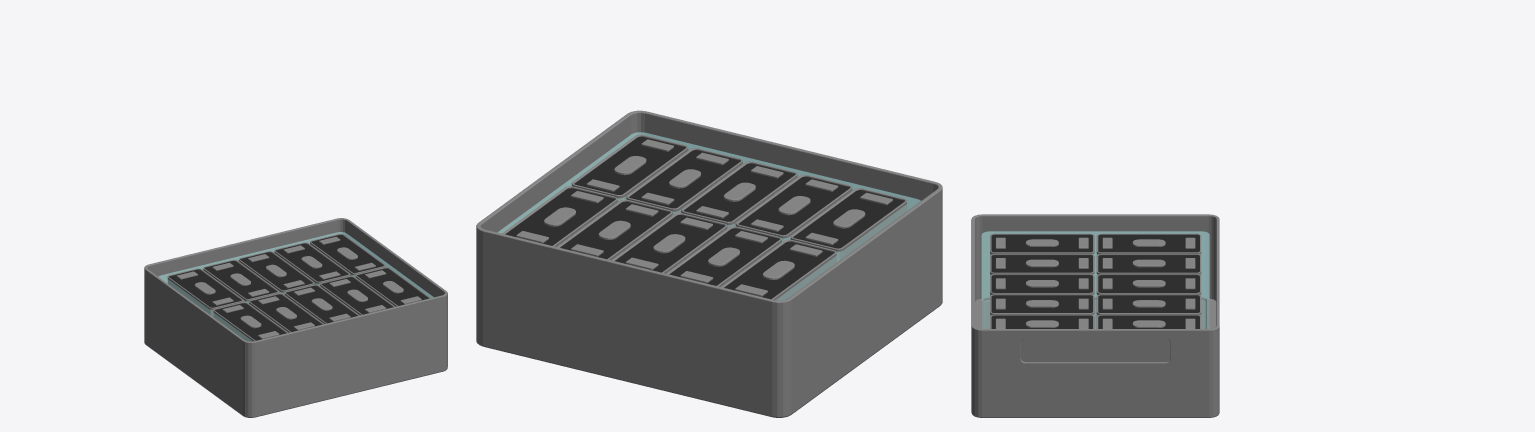
Rendered from carmodel.glb.
3 renders of one model, left to right at view 1: azimuth 30°, elevation 25°; view 2: azimuth 150°, elevation 25°; view 3: azimuth 270°, elevation 25°, orthographic. The views are drawn at different scales.
Visible parts, largest first — view 1: case, pack006, pack005, pack008, pack009, pack007, pack010, pack003, pack001, pack004, pack002, Cube; view 2: case, pack005, pack006, pack001, pack004, pack003, pack002, pack009, pack008, pack010, pack007, Cube; view 3: case, Cube, pack009, pack008, pack007, pack006, pack004, pack003, pack005, pack002, pack010, pack001 (+1 smaller).
Part boxes in pixels (x1,y1,x2,y2): case: [144, 218, 447, 417]; pack006: [167, 268, 243, 316]; pack005: [213, 302, 288, 341]; pack008: [238, 251, 314, 294]; pack009: [274, 242, 350, 285]; pack007: [203, 259, 278, 303]; pack010: [310, 233, 385, 277]; pack003: [284, 284, 359, 323]; pack001: [355, 267, 430, 306]; pack004: [249, 293, 323, 332]; pack002: [320, 276, 395, 315]; Cube: [159, 232, 433, 341]; case: [476, 110, 942, 417]; pack005: [790, 188, 906, 262]; pack006: [721, 239, 836, 300]; pack001: [571, 134, 688, 201]; pack004: [735, 174, 852, 241]; pack003: [681, 161, 797, 228]; pack002: [626, 148, 742, 214]; pack009: [557, 199, 672, 260]; pack008: [611, 213, 727, 273]; pack010: [502, 186, 617, 246]; pack007: [666, 226, 781, 286]; Cube: [498, 132, 920, 300]; case: [971, 214, 1219, 417]; Cube: [982, 231, 1209, 328]; pack009: [1096, 294, 1201, 316]; pack008: [1096, 274, 1201, 295]; pack007: [1096, 254, 1201, 275]; pack006: [1096, 233, 1201, 255]; pack004: [990, 254, 1094, 275]; pack003: [990, 274, 1094, 295]; pack005: [990, 233, 1094, 255]; pack002: [990, 294, 1094, 315]; pack010: [1096, 314, 1201, 328]; pack001: [990, 314, 1094, 328].
Size of the model in its own units: 2.43 by 2.94 by 4.86.
5 materials, 1 textured.
